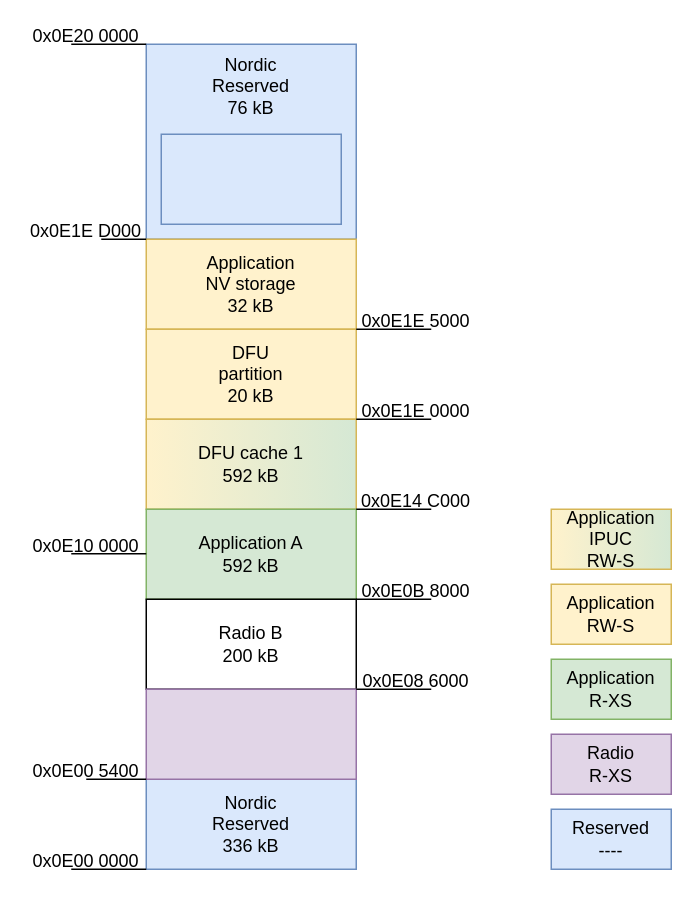
Image size: 698x897. Some labels were removed from this diagram. The centre of each missing label's shape, as x and y in pixels:
Radio A 200 kB: point (250, 733)
SUIT storage 20 kB: point (250, 178)
